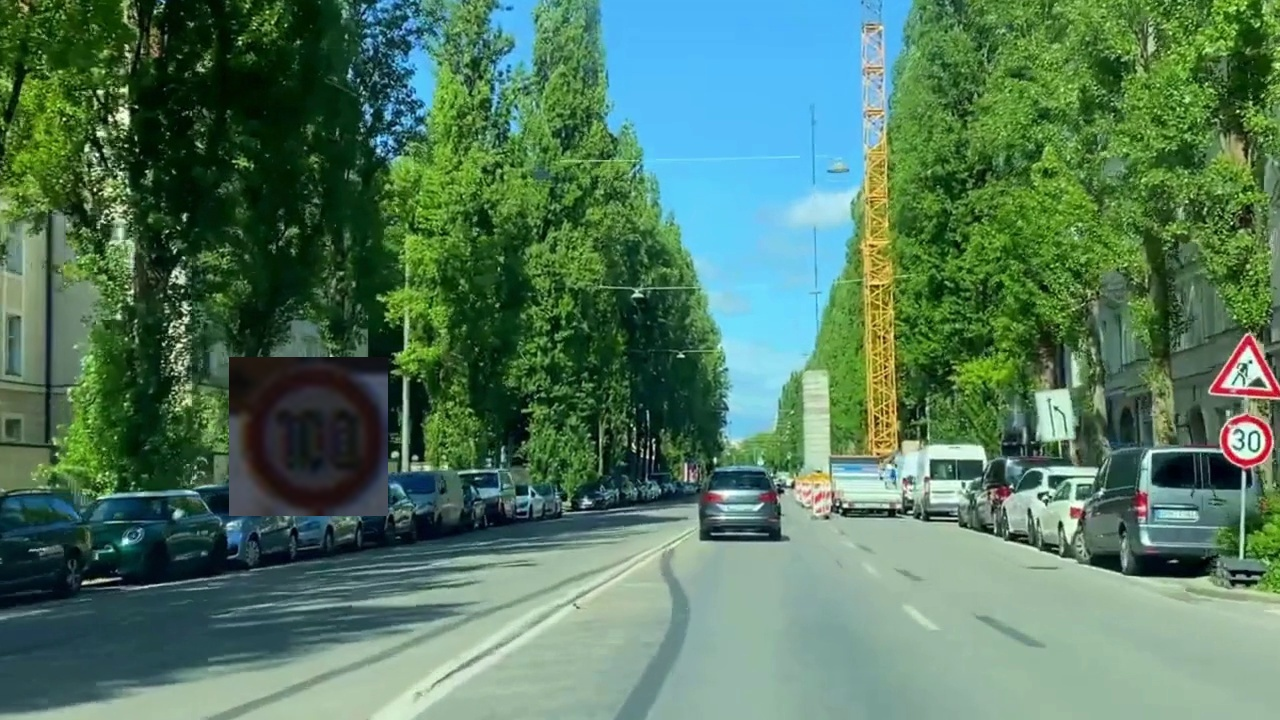Speed 100: (229, 357, 388, 516)
